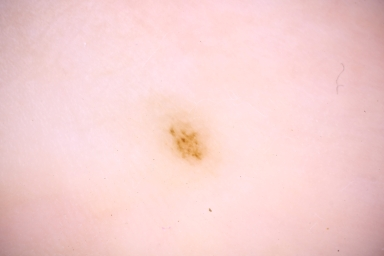nevus: (168, 124, 205, 164)
